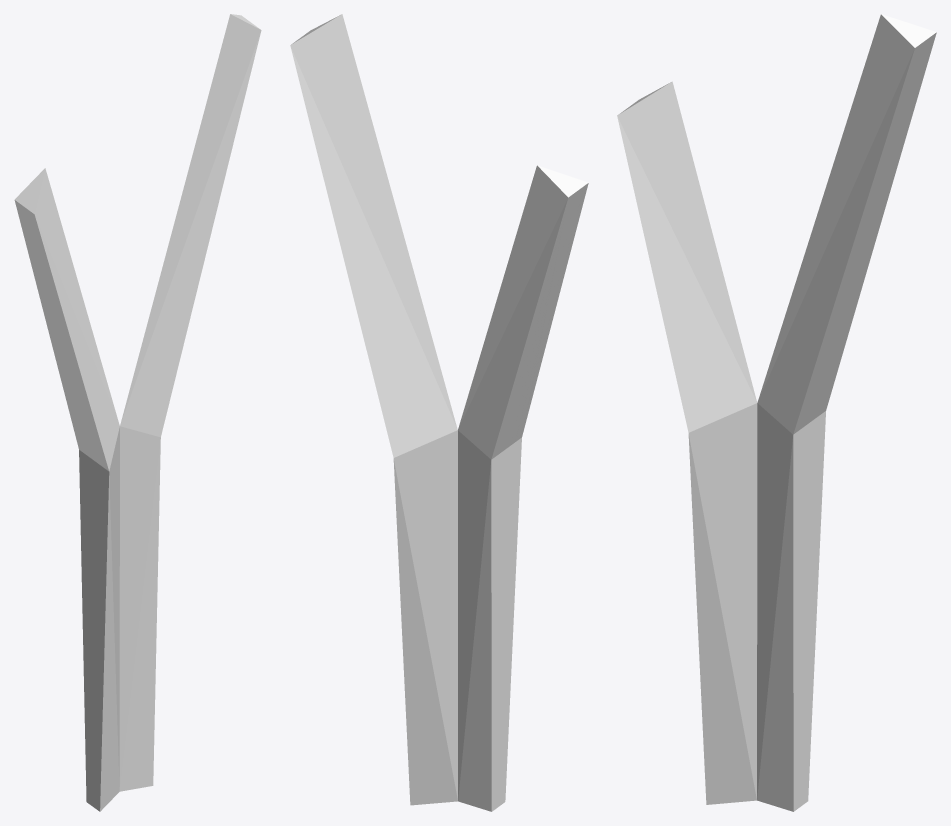
File: Crop_Garlic_STAGE_1_01.glb
3 renders of one model, left to right at view 1: azimuth 30°, elevation 25°; view 2: azimuth 150°, elevation 25°; view 3: azimuth 330°, elevation 25°, orthographic. The views are drawn at different scales.
Visible parts, largest first — view 1: Crop_Garlic_STAGE_1_01; view 2: Crop_Garlic_STAGE_1_01; view 3: Crop_Garlic_STAGE_1_01.
Part boxes in pixels (x1,y1,x2,y2): Crop_Garlic_STAGE_1_01: [14, 14, 261, 811]; Crop_Garlic_STAGE_1_01: [290, 14, 588, 811]; Crop_Garlic_STAGE_1_01: [617, 14, 936, 811].
Bounding box in the file's own units: 0.0431 × 0.1236 × 0.0157.
Materials: 1 (1 with a texture image).
